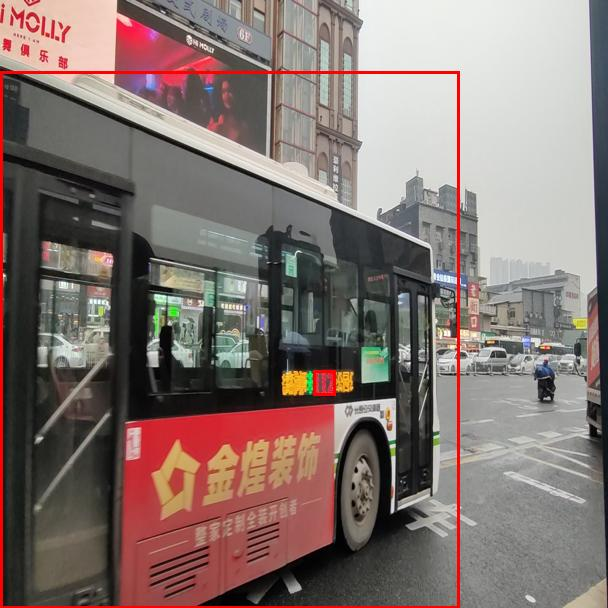bus: (0, 71, 459, 608)
screen: (313, 370, 335, 395)
